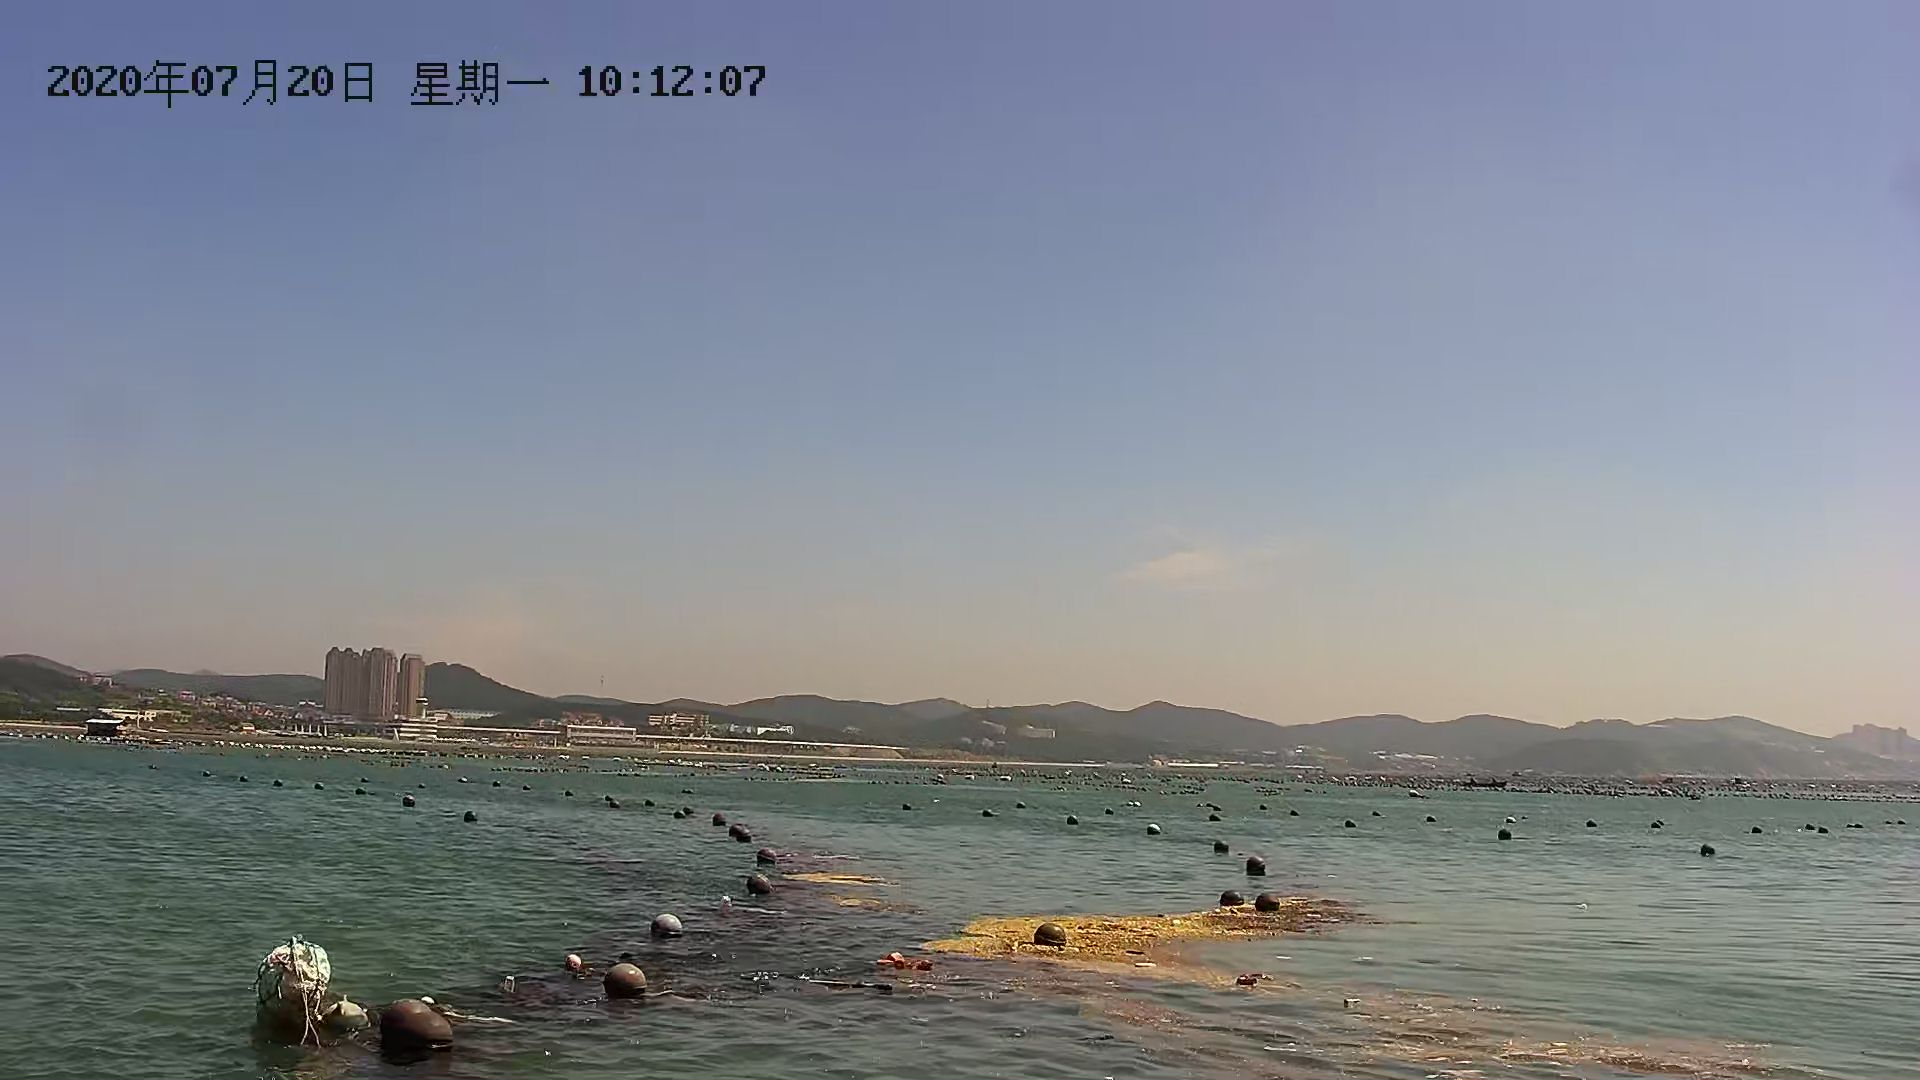ball: (380, 1000, 458, 1055), (601, 964, 651, 1004), (1030, 920, 1073, 956), (647, 906, 684, 939), (1237, 853, 1273, 880), (1218, 884, 1245, 916), (1251, 887, 1280, 915), (749, 870, 773, 899)
rubbish: (249, 934, 328, 1048)
